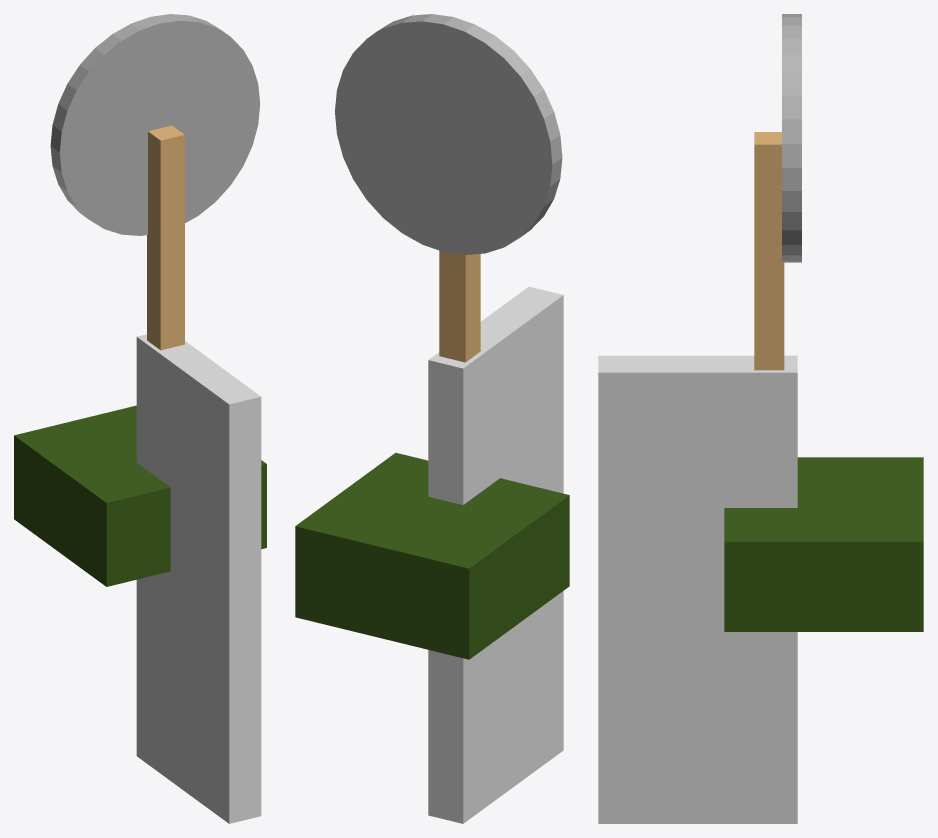
File: Target.dae
The picture shows the model from 3 angles, left to right: view 1: azimuth 30°, elevation 25°; view 2: azimuth 150°, elevation 25°; view 3: azimuth 270°, elevation 25°; orthographic projection. The views are drawn at different scales.
Parts seen in each view (by area): view 1: Cube.001, Cylinder, Cube.002, Cube; view 2: Cube.001, Cylinder, Cube.002, Cube; view 3: Cube.001, Cube.002, Cube, Cylinder.
Boxes of the visible parts, box(x1,y1,x2,y2) form: Cube.001: box(136, 334, 261, 823); Cylinder: box(50, 14, 260, 235); Cube.002: box(14, 405, 266, 586); Cube: box(147, 125, 184, 350); Cube.001: box(428, 286, 563, 823); Cylinder: box(335, 14, 562, 254); Cube.002: box(295, 452, 569, 659); Cube: box(439, 250, 480, 362); Cube.001: box(598, 355, 797, 823); Cube.002: box(724, 457, 923, 631); Cube: box(754, 132, 784, 370); Cylinder: box(782, 14, 801, 262).
Bounding box in the file's own units: 0.5 × 0.6529 × 1.75.
